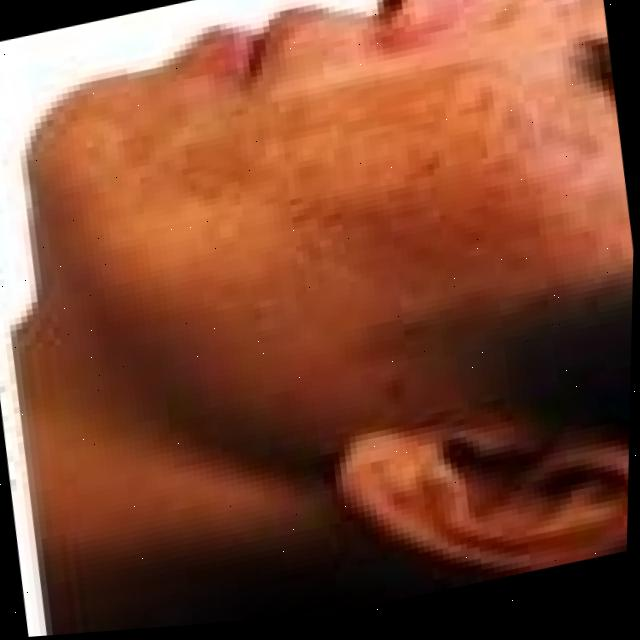Melasma: (164, 45, 634, 371), (31, 59, 194, 185), (474, 0, 567, 37)
